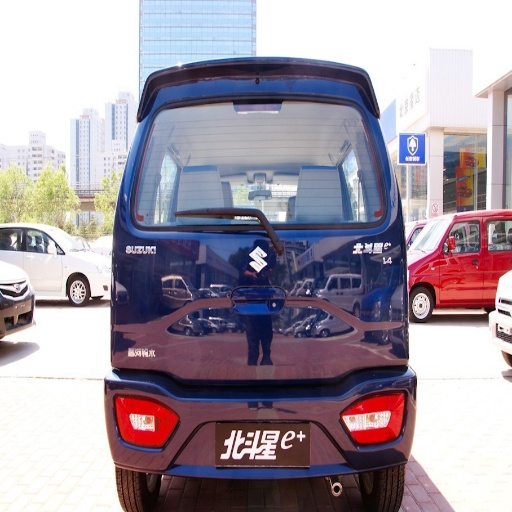back_bumper: (112, 377, 414, 477)
tailgate: (250, 317, 347, 363), (222, 172, 301, 203), (135, 164, 174, 208)
trunk: (111, 197, 394, 443)
